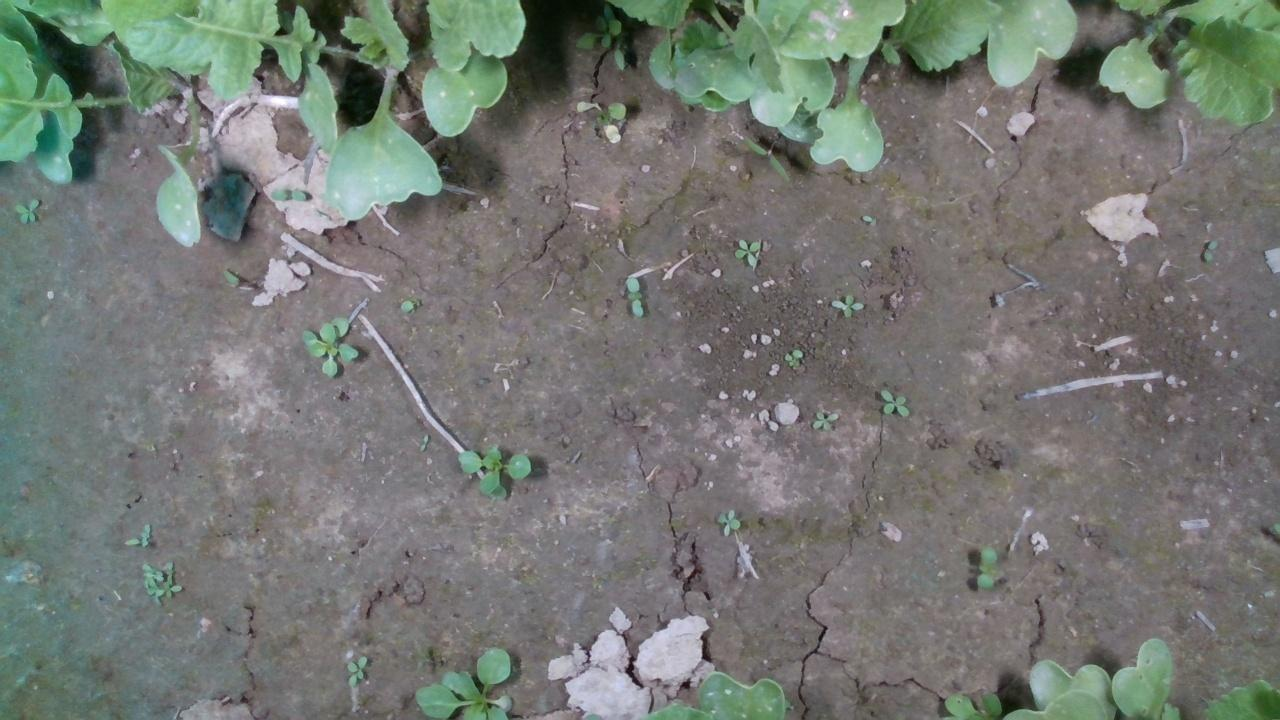weed: (877, 388, 910, 417)
